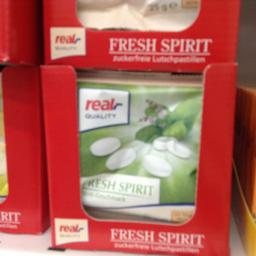candy: (76, 71, 198, 226)
